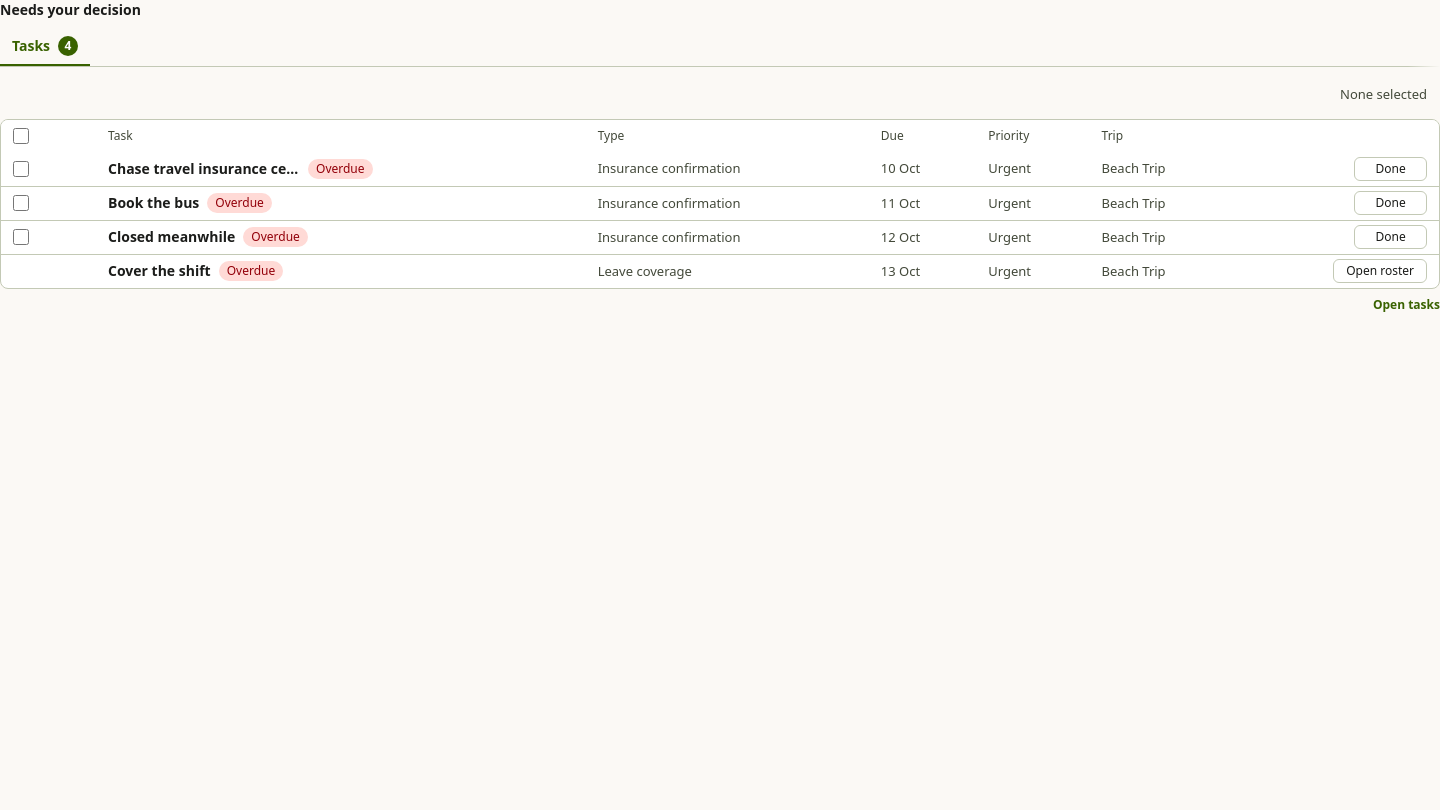
Test: Tasks due group — Mark all done (decision-bulk) › reads each task fresh and completes it in row order, skips one already closed as stale, and never ticks a cover task
Click the checkbox named "Select all shown tasks due" at (21,136), box [13,128,29,144]
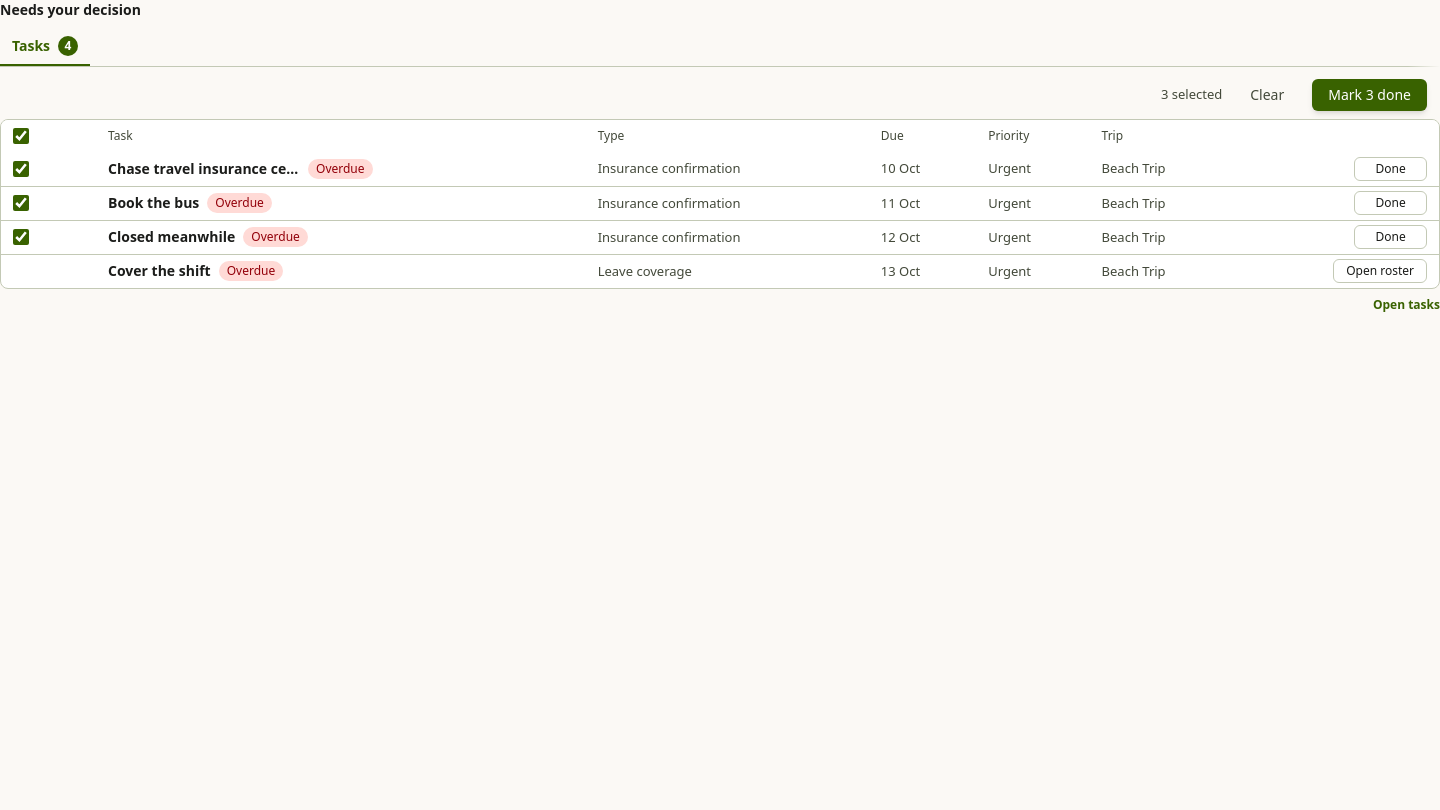
Click the button with aria-label "Mark 3 selected tasks done" at (1370,95), box [1312,79,1427,111]
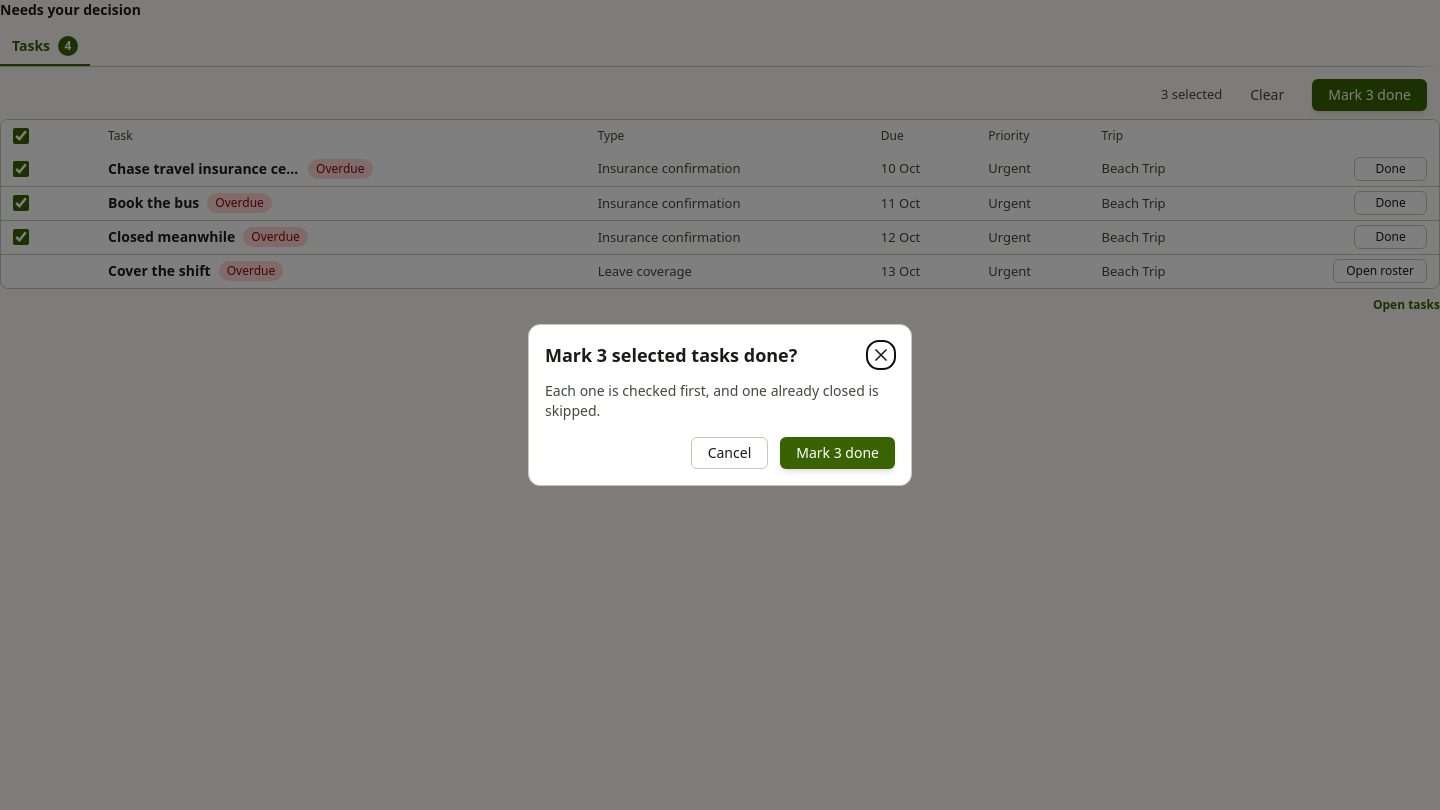
Result: the dialog shows "3 selected tasks" at [545,343,797,367]
Click the button "Mark 3 done" at (838,453), box [780,437,895,469]
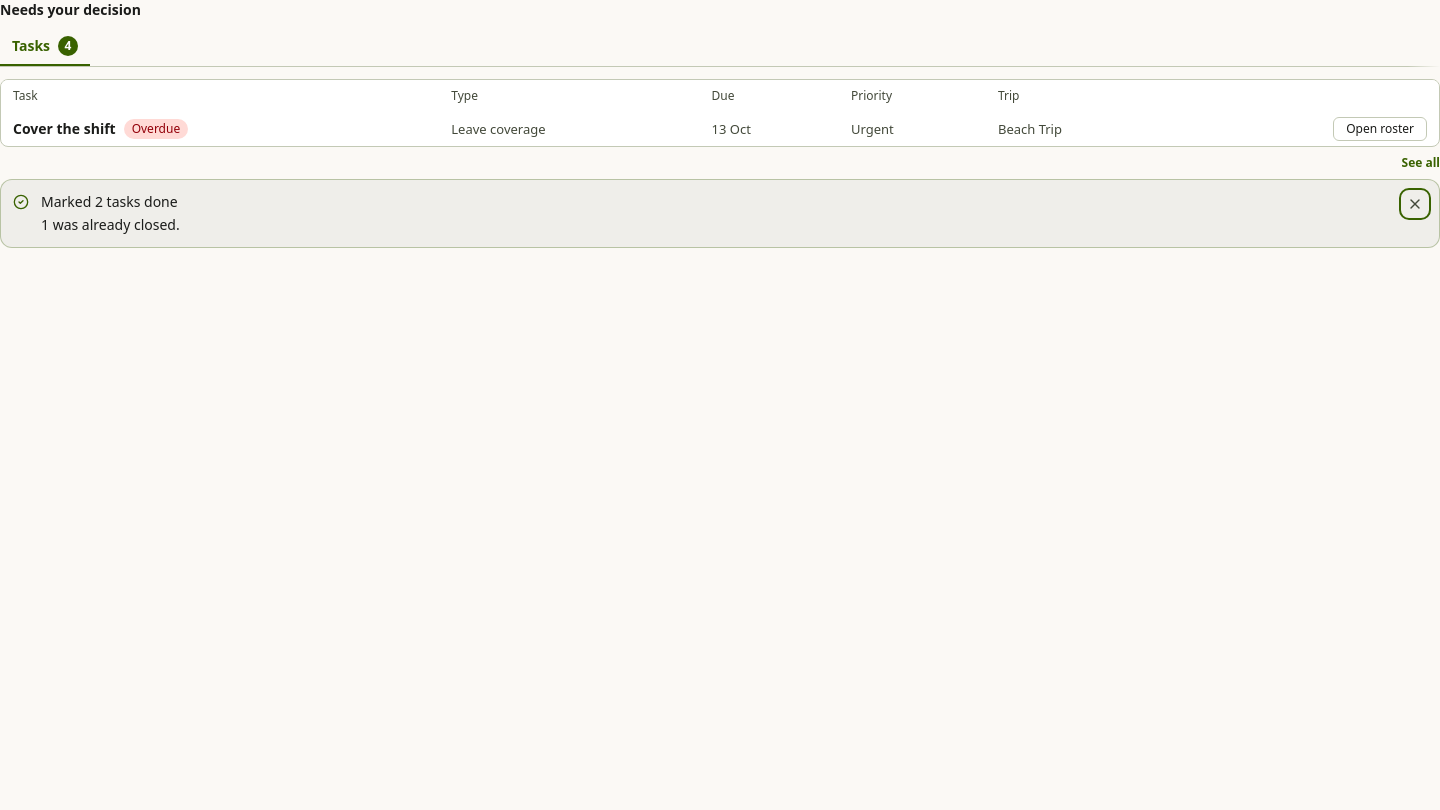
Result: the text "Marked 2 tasks done" is shown at [41,192,178,211]
Result: the text "1 was already closed." is shown at [41,215,180,234]
